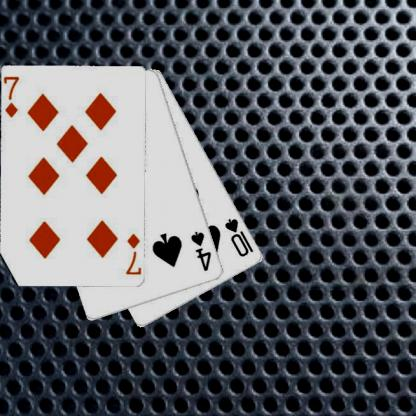10S: (222, 216, 255, 258)
4S: (188, 229, 213, 273)
7D: (4, 74, 21, 120), (124, 231, 140, 277)
